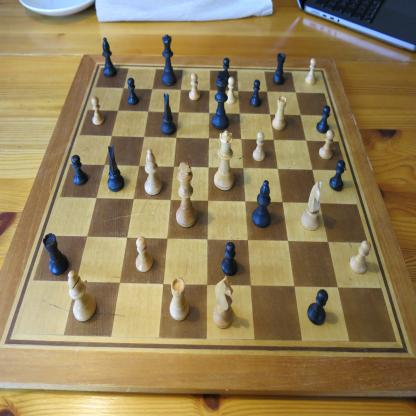black-bishop: (251, 179, 271, 229), (102, 36, 117, 78)
black-king: (211, 70, 230, 130)
black-knight: (107, 144, 125, 192), (161, 93, 176, 136)
black-pawn: (306, 289, 328, 326), (221, 242, 238, 276), (71, 154, 88, 186), (329, 160, 346, 192), (316, 104, 331, 134), (249, 79, 262, 108), (127, 77, 139, 106), (223, 57, 230, 83)
black-queen: (162, 34, 178, 86)
black-rook: (42, 232, 69, 276), (272, 52, 286, 86)
white-bishop: (68, 270, 97, 322), (145, 148, 162, 196)
white-king: (176, 162, 197, 228)
white-knight: (212, 276, 234, 330), (300, 181, 322, 231)
white-pawn: (349, 240, 372, 275), (135, 236, 153, 273), (318, 130, 335, 160), (91, 96, 105, 126), (252, 131, 265, 162), (305, 58, 317, 86), (188, 73, 200, 101), (225, 76, 236, 104)
white-queen: (213, 130, 235, 191)
white-rook: (169, 276, 190, 322), (272, 95, 286, 131)
